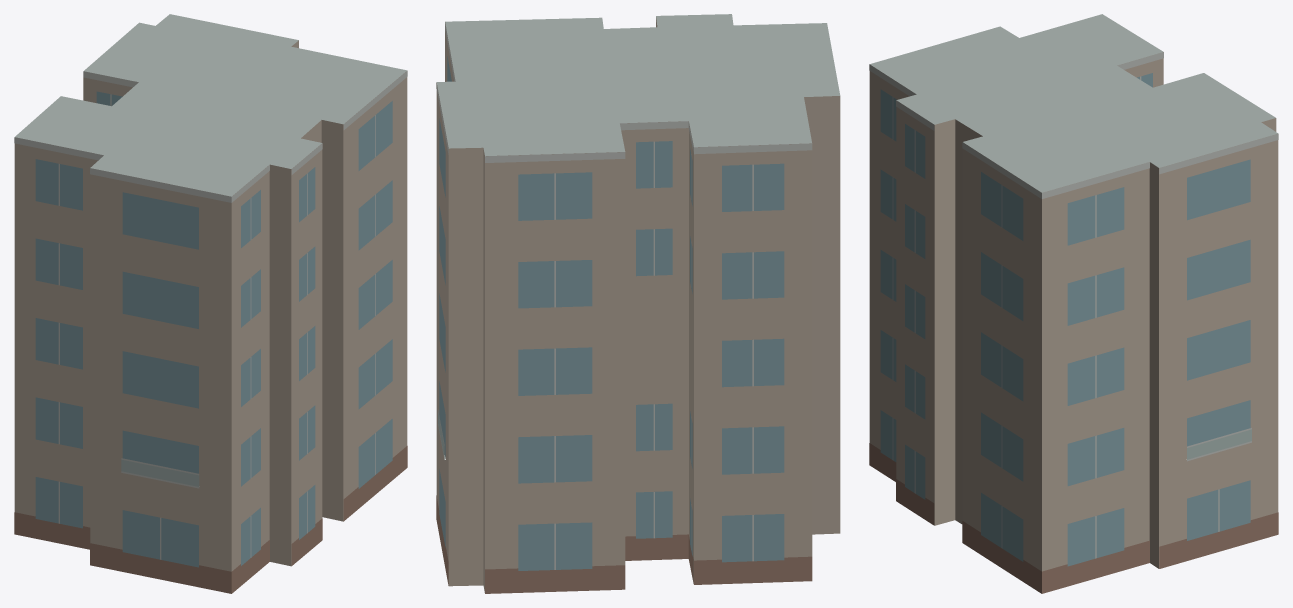
The model's file is survey-upis-32583474.glb.
3 views of the same model, side by side, from view 1: azimuth 30°, elevation 25°; view 2: azimuth 150°, elevation 25°; view 3: azimuth 270°, elevation 25° (orthographic). The views are drawn at different scales.
Visible parts, largest first — view 1: survey-upis-32583474.tmp; view 2: survey-upis-32583474.tmp; view 3: survey-upis-32583474.tmp.
Boxes of the visible parts, x1,y1,x2,y2 form: survey-upis-32583474.tmp: (14, 14, 407, 593); survey-upis-32583474.tmp: (436, 14, 840, 593); survey-upis-32583474.tmp: (869, 14, 1278, 593).
Size of the model in its own units: 14.69 by 15.35 by 14.19.
